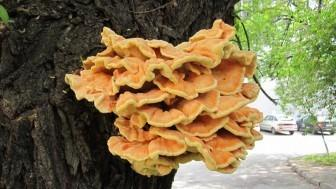Sulphur-yellow tinder fungus: (65, 20, 261, 175)
